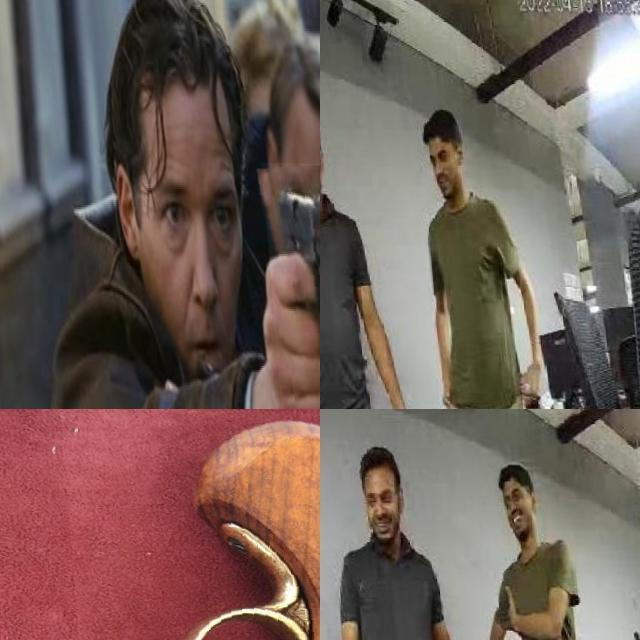gun-knife-thesis - v11 Yolov5 augmented: (59, 409, 320, 640), (256, 160, 320, 409)
